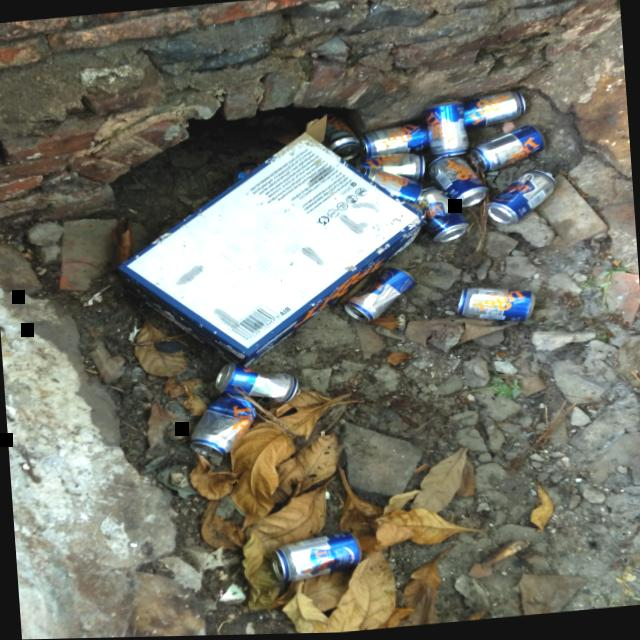Corrugated carton: (118, 116, 425, 368)
Drink can: (271, 532, 362, 582), (187, 393, 258, 457), (343, 268, 417, 323), (487, 172, 556, 225), (470, 126, 544, 172), (216, 363, 298, 404), (409, 188, 468, 242), (427, 156, 487, 208), (457, 287, 535, 323), (463, 91, 525, 131), (425, 101, 468, 158), (359, 122, 428, 157), (364, 168, 422, 205), (355, 154, 424, 181), (325, 120, 360, 161)
Pop tab: (198, 446, 212, 456), (473, 158, 481, 165), (353, 309, 359, 316), (295, 388, 300, 395)
